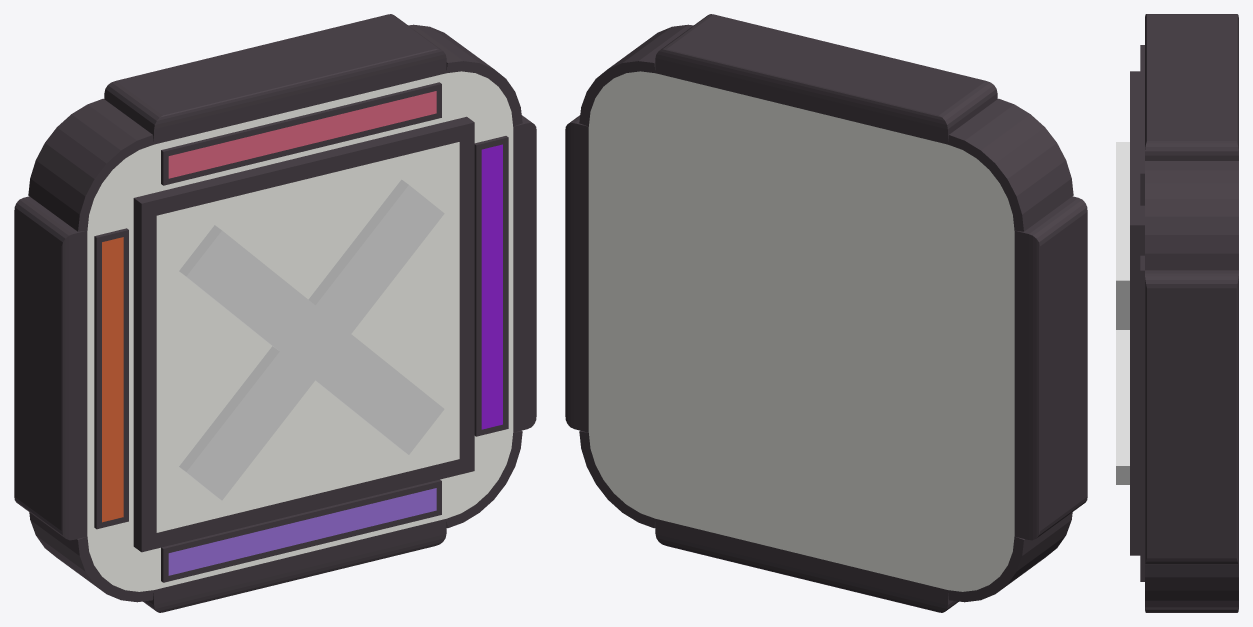
File: upgrade_cross.fbx
3 views of the same model, side by side, from view 1: azimuth 30°, elevation 25°; view 2: azimuth 150°, elevation 25°; view 3: azimuth 270°, elevation 25° (orthographic). The views are drawn at different scales.
Parts seen in each view (by area): view 1: Cube.001; view 2: Cube.001; view 3: Cube.001.
Part boxes in pixels (left/top/right/bottom): Cube.001: left=14, top=14, right=536, bottom=612; Cube.001: left=565, top=14, right=1087, bottom=612; Cube.001: left=1116, top=14, right=1238, bottom=612.
Size of the model in its own units: 223 by 223 by 52.79.
